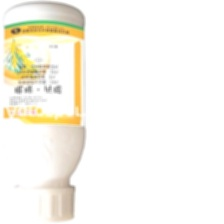insecticide: (0, 0, 86, 224)
